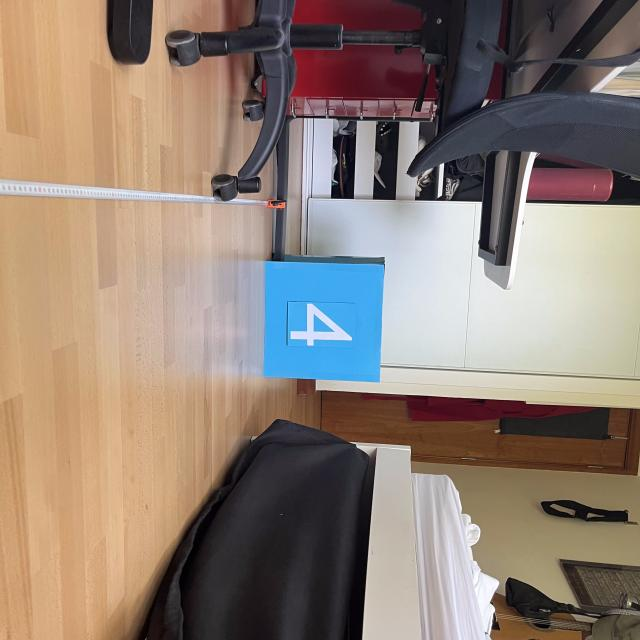box: (258, 252, 388, 384)
